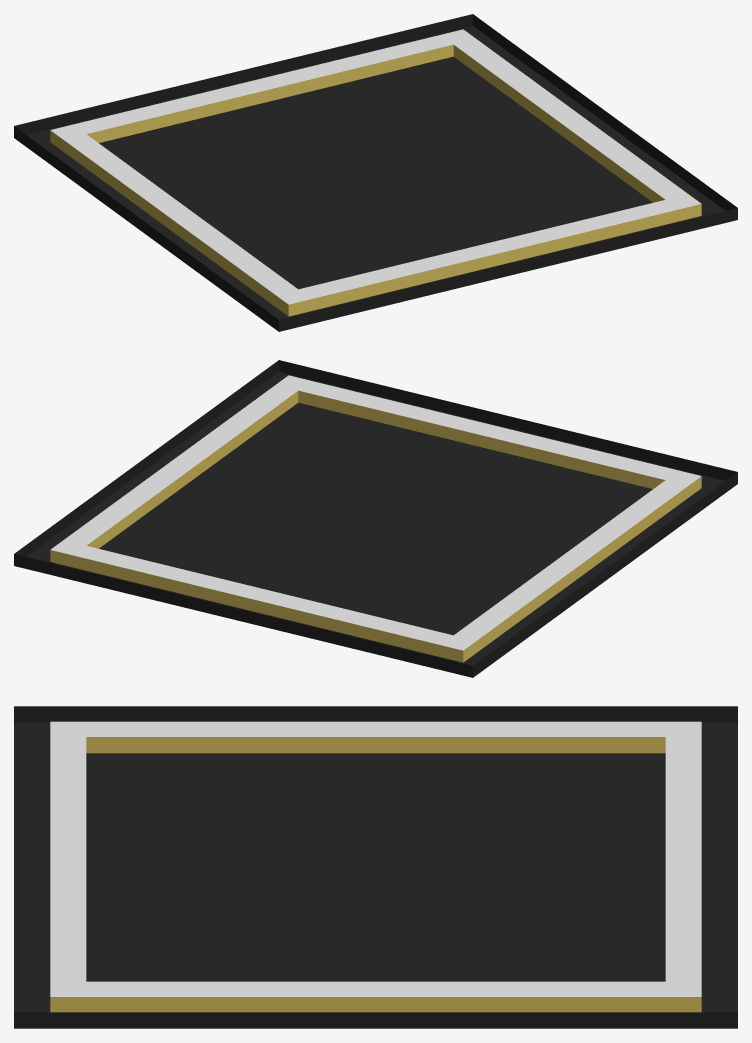
Rendered from Ceiling.fbx.
The picture shows the model from 3 angles, top to bottom: view 1: azimuth 30°, elevation 25°; view 2: azimuth 150°, elevation 25°; view 3: azimuth 270°, elevation 25°; orthographic projection. The views are drawn at different scales.
Visible parts, largest first — view 1: Cube; view 2: Cube; view 3: Cube.
Part boxes in pixels (<box>): Cube: <box>14,14,737,331</box>; Cube: <box>14,360,737,677</box>; Cube: <box>14,706,737,1028</box>.
Bounding box in the file's own units: 400 × 10 × 400.
